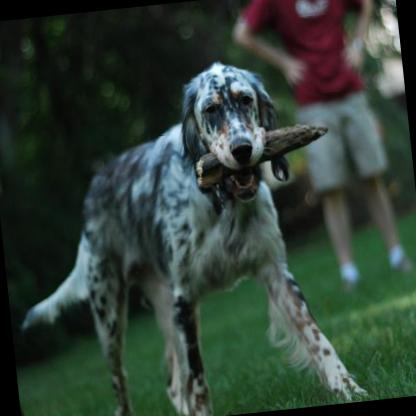English_setter: (0, 40, 371, 416)
